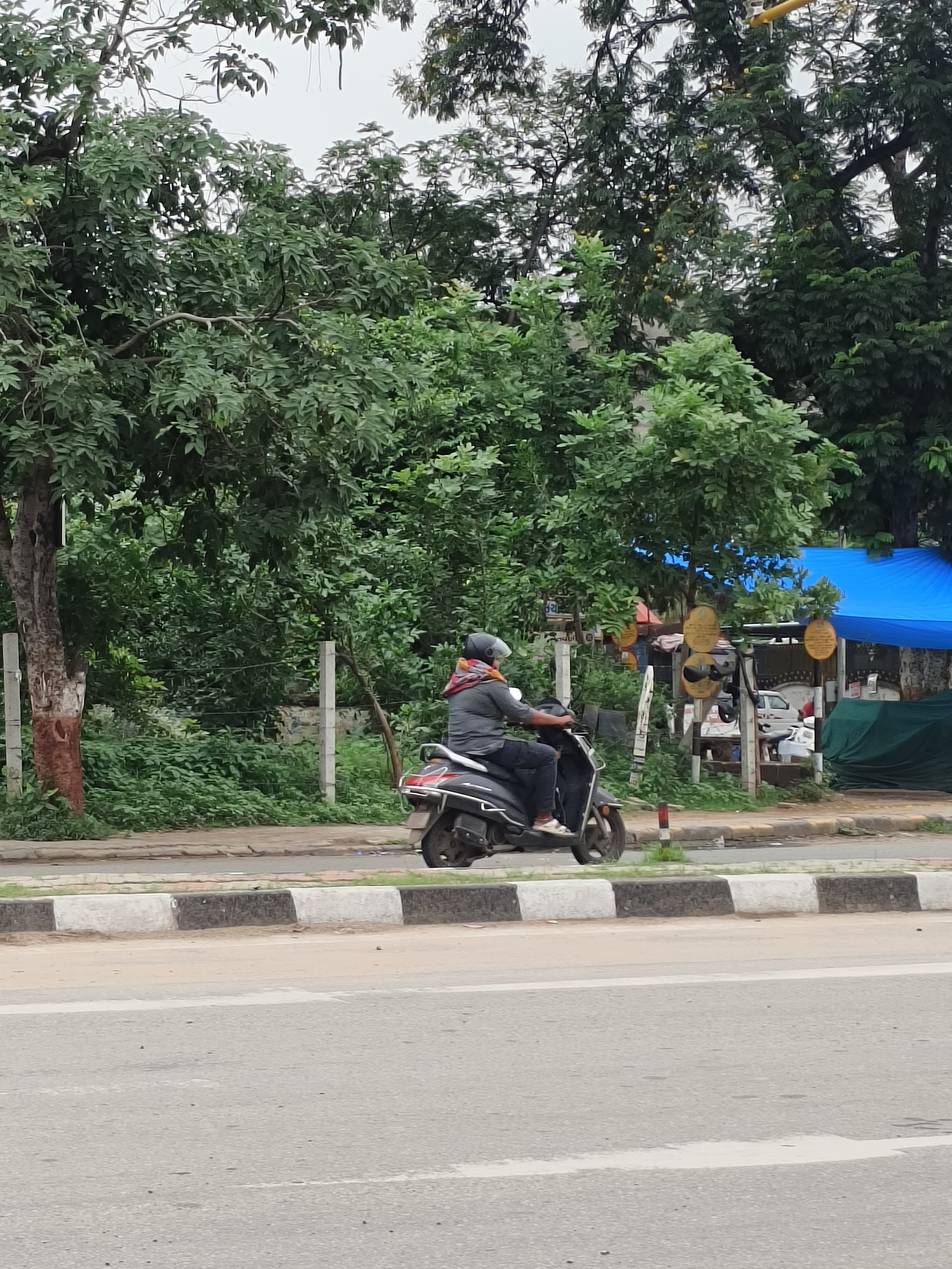BikeWithRider: (389, 625, 637, 876)
Helmet: (453, 627, 516, 672)
